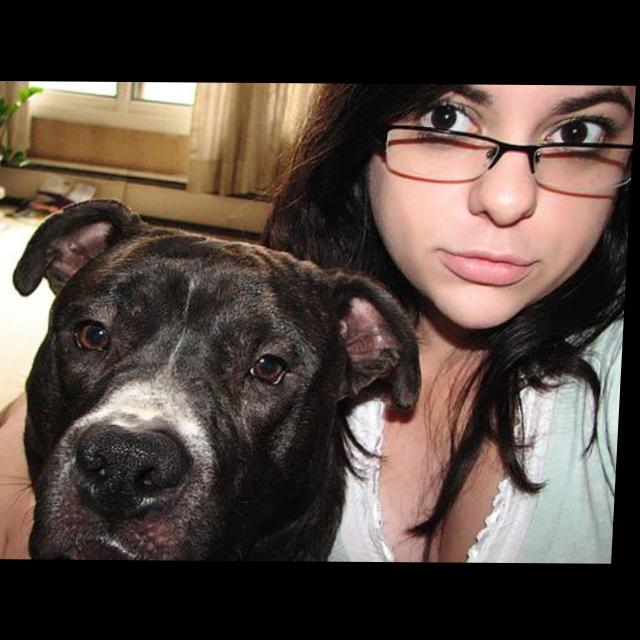amstaff: (3, 197, 434, 564)
face: (362, 84, 638, 330)
person: (1, 82, 638, 564)
